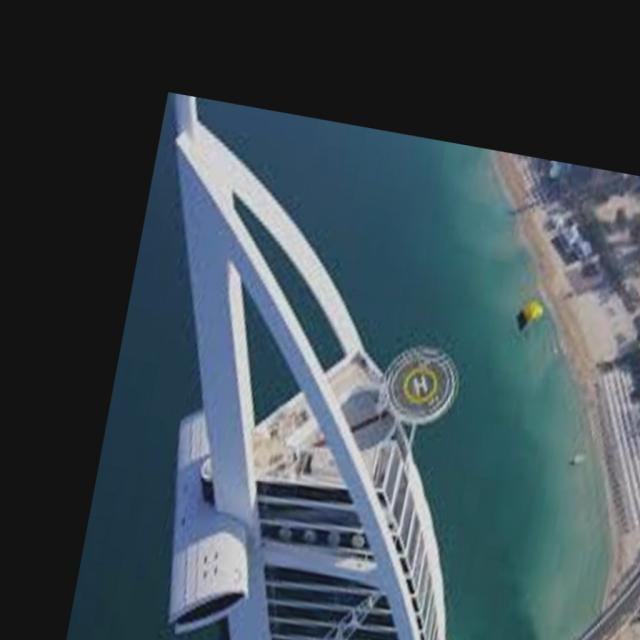helipad: (398, 362, 441, 405)
